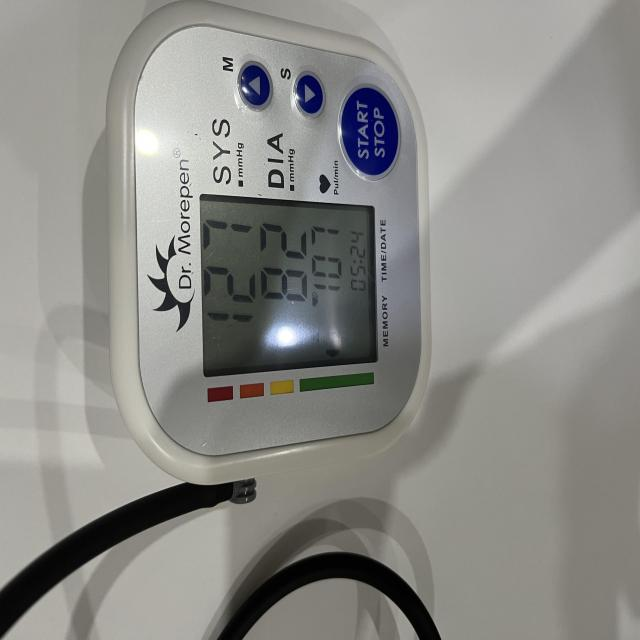bp: (83, 0, 431, 488)
